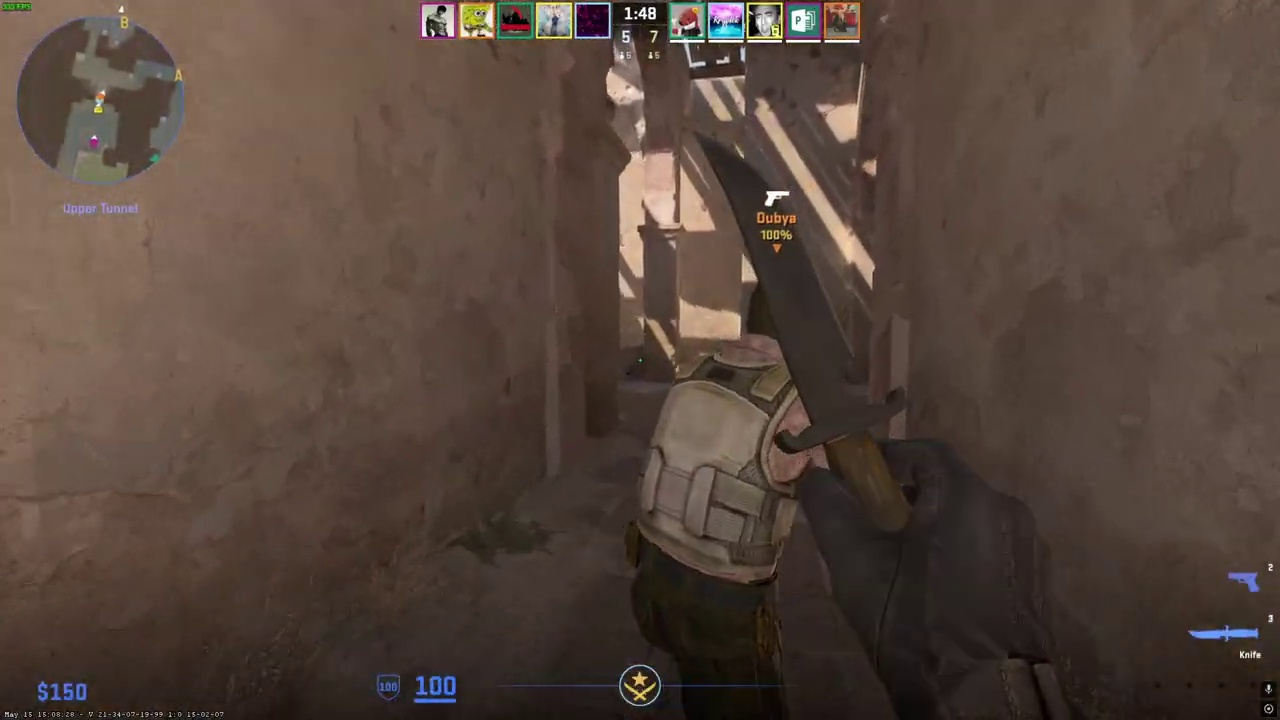Terrorist: (630, 284, 817, 720)
